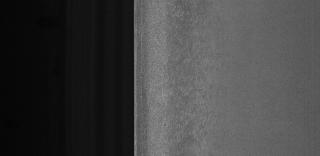silk spot: (162, 12, 214, 152)
